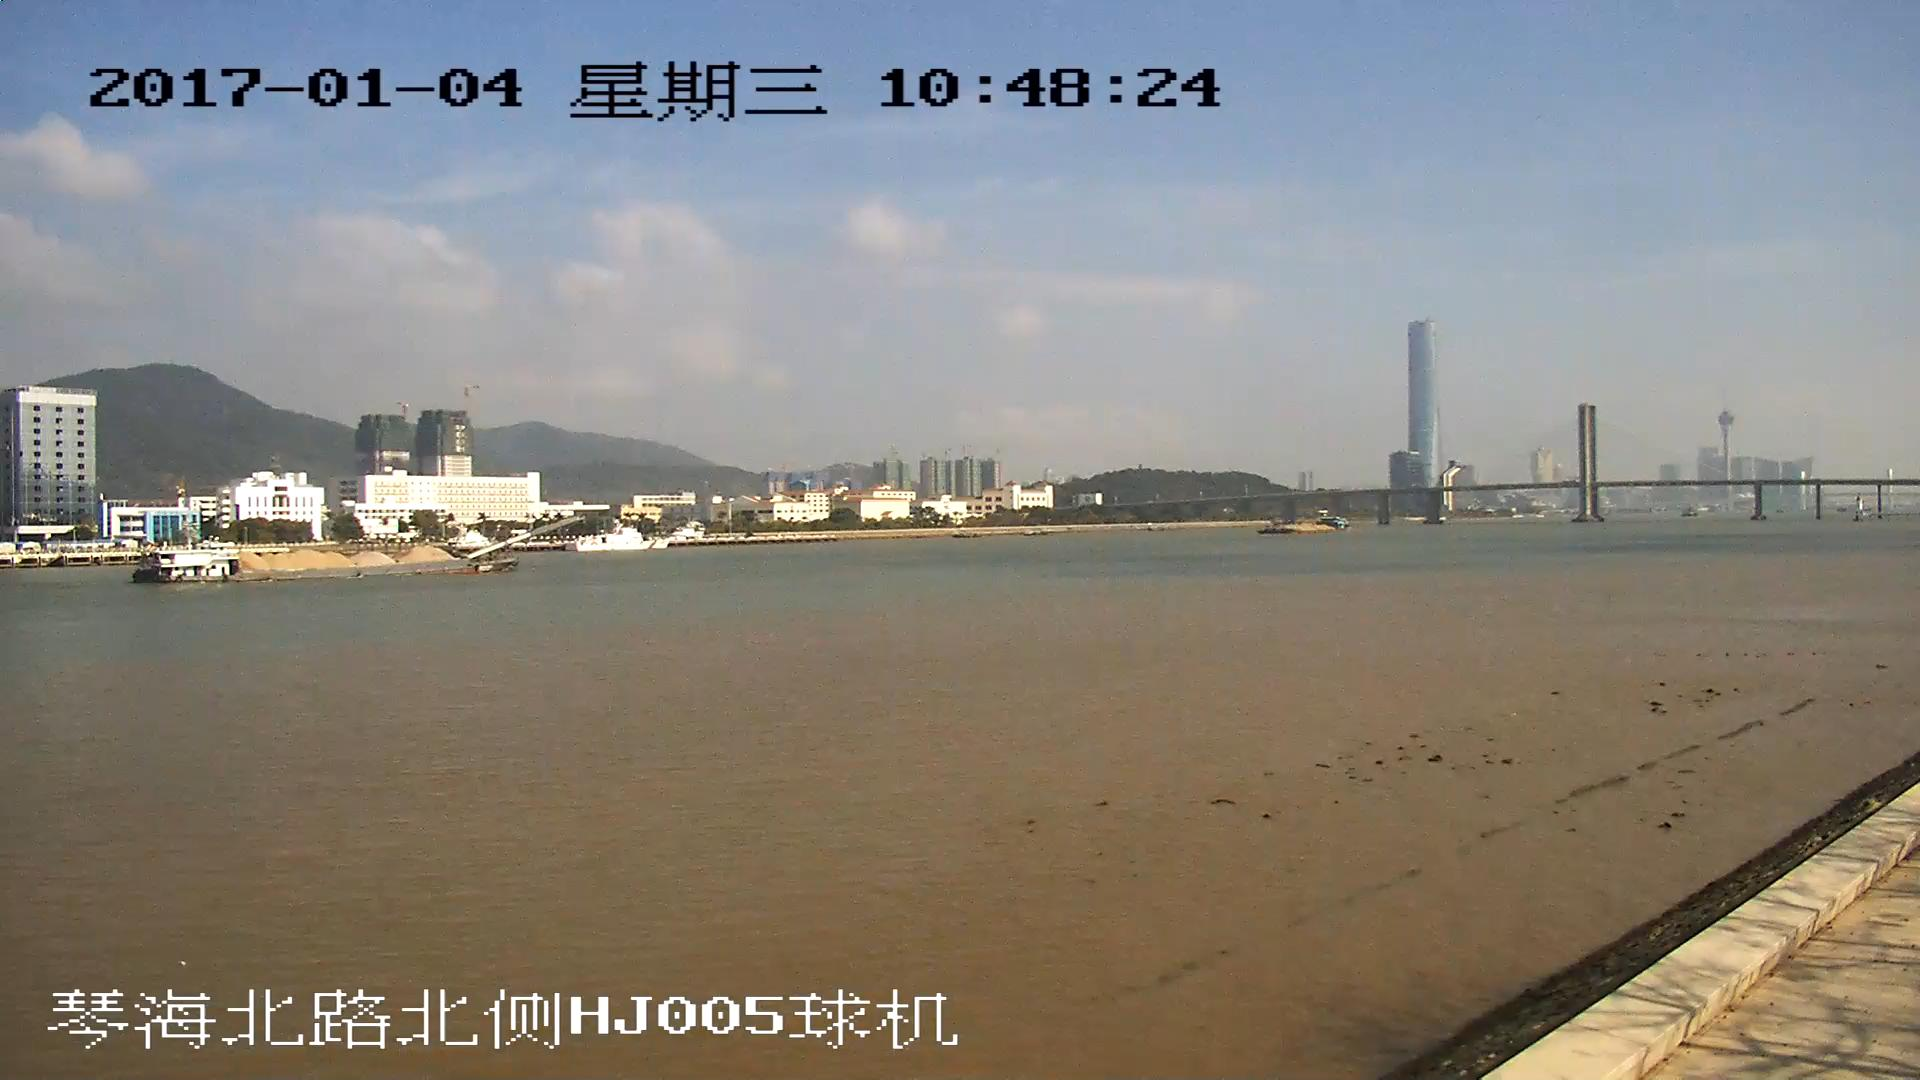ore carrier: (134, 515, 585, 583)
